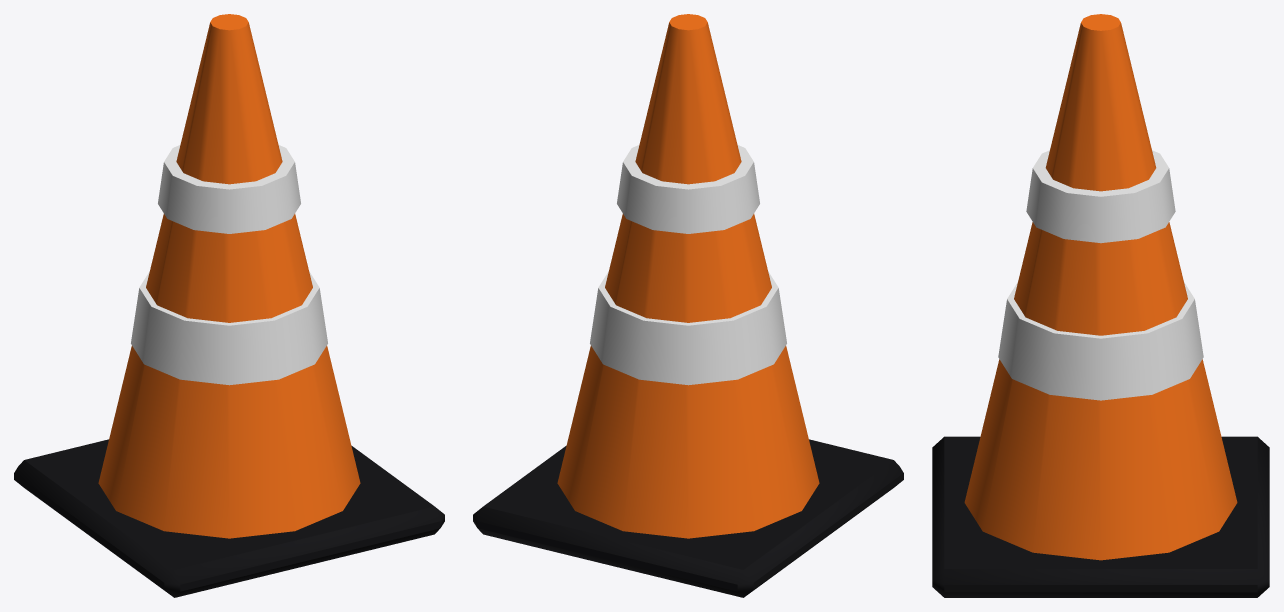
The picture shows the model from 3 angles, left to right: view 1: azimuth 30°, elevation 25°; view 2: azimuth 150°, elevation 25°; view 3: azimuth 270°, elevation 25°; orthographic projection. The views are drawn at different scales.
Visible parts, largest first — view 1: PROP_cone; view 2: PROP_cone; view 3: PROP_cone.
Boxes of the visible parts, x1=… form: PROP_cone: x1=14, y1=14, x2=444, y2=597; PROP_cone: x1=473, y1=14, x2=903, y2=597; PROP_cone: x1=932, y1=14, x2=1269, y2=597.
Size of the model in its own units: 0.42 by 0.7 by 0.42.
